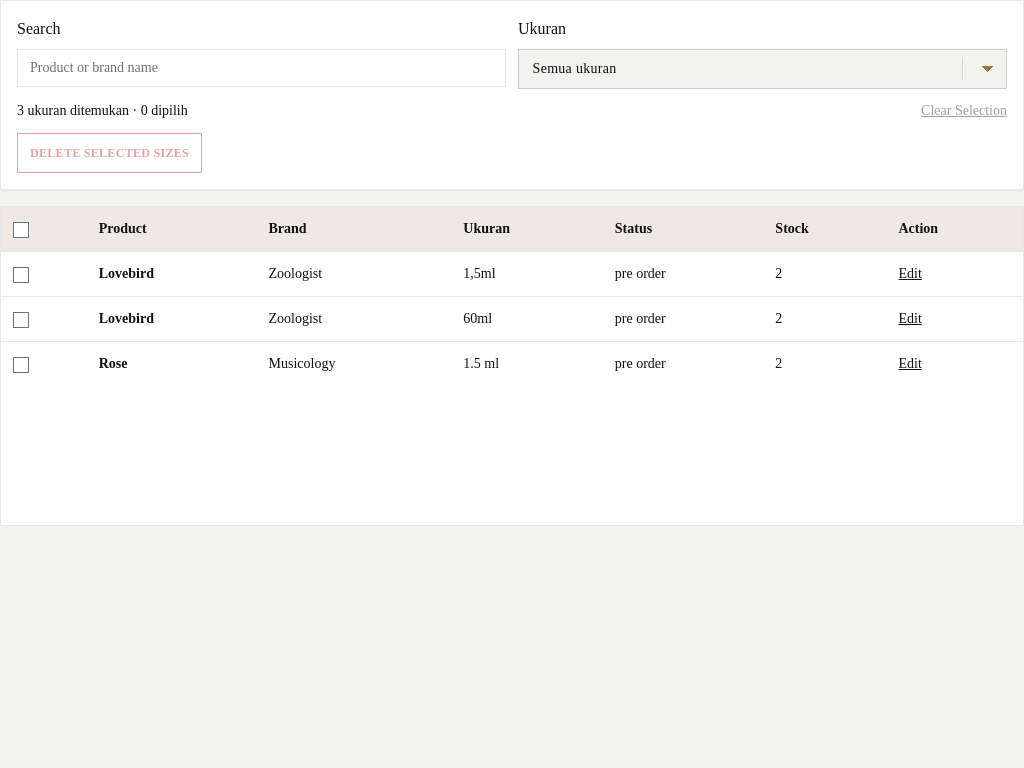
Test: catalog management UI › filters equivalent sizes across brands and resets selections
Select "1.5 ml" in the dropdown named "Ukuran produk" at (762, 69), box [518, 49, 1007, 89]
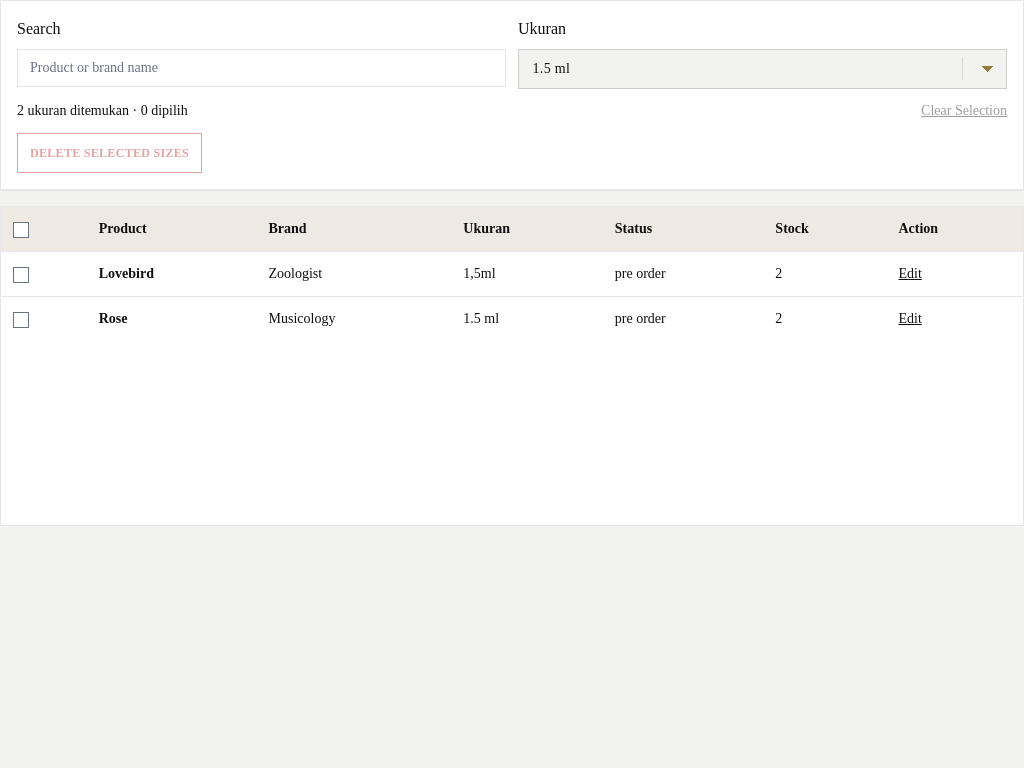
Check: the text "Zoologist" is shown, box [256, 252, 451, 296]
Check: the text "Musicology" is shown, box [256, 296, 451, 341]
Click the checkbox named "Select all matching sizes" at (21, 230), box [13, 222, 29, 238]
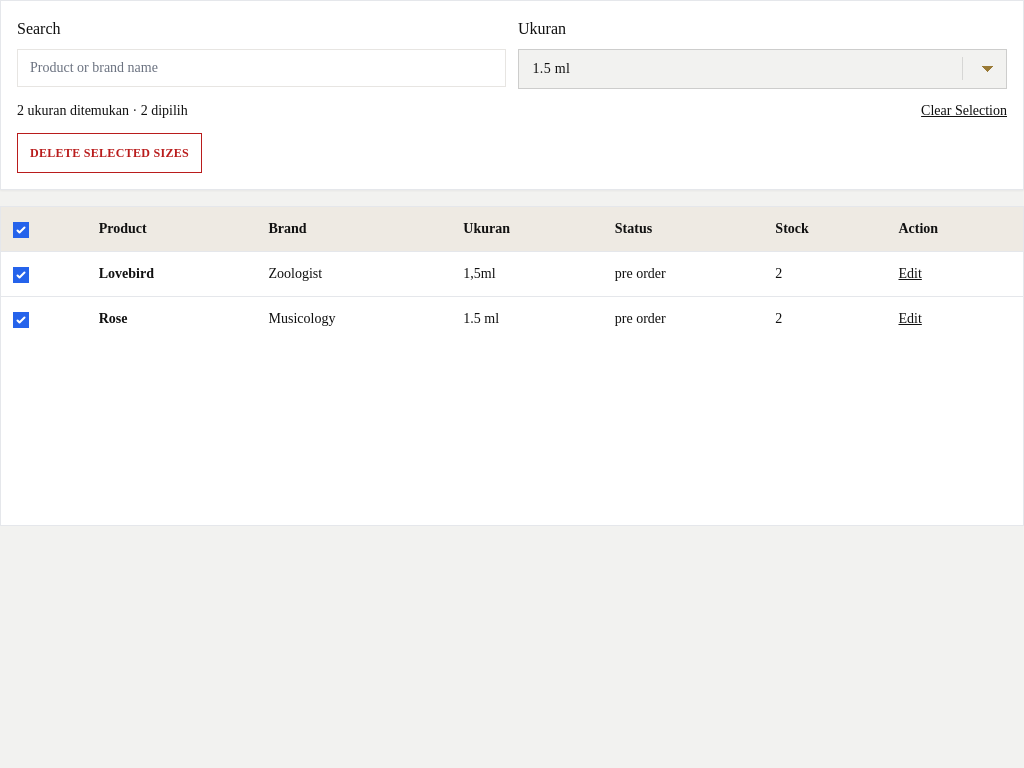
Check: the text "2 ukuran ditemukan · 2 dipilih" is shown, box [17, 101, 188, 121]
Type "Rose" into the search field at (262, 68), box [17, 49, 506, 87]
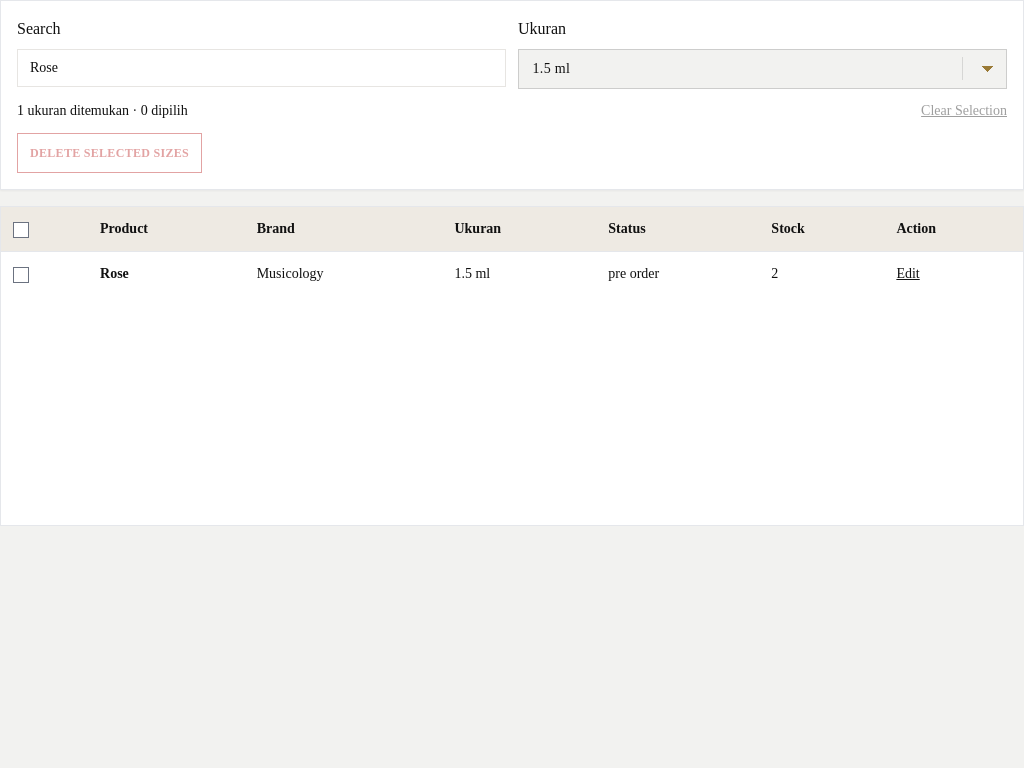
Check: the text "1 ukuran ditemukan · 0 dipilih" is shown, box [17, 101, 188, 121]
